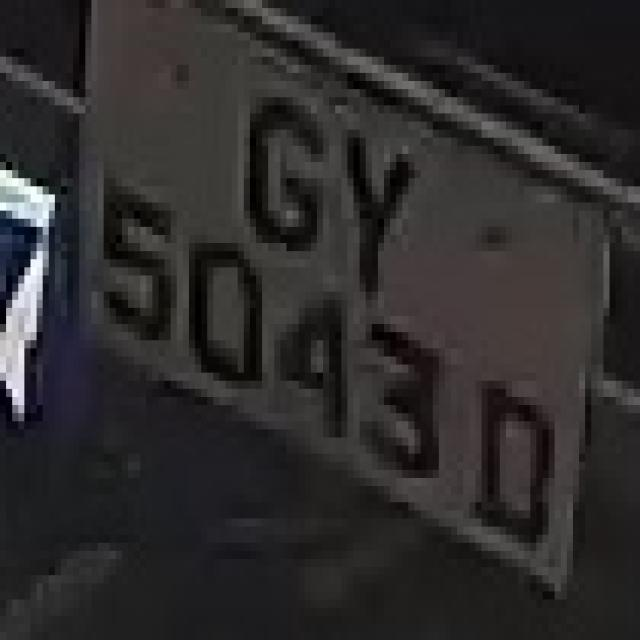0: (171, 195, 280, 422)
3: (360, 276, 445, 510)
4: (256, 276, 360, 454)
5: (91, 154, 177, 364)
D: (457, 348, 567, 567)
G: (232, 65, 323, 275)
Y: (323, 97, 415, 300)
